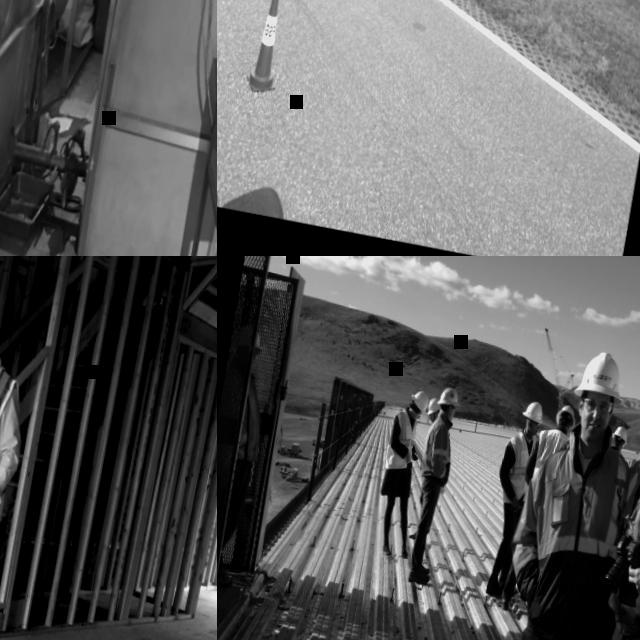helmet: (570, 345, 632, 405), (232, 319, 266, 354), (520, 398, 545, 425), (408, 386, 432, 414), (436, 384, 462, 409), (554, 400, 578, 426), (610, 424, 630, 446), (426, 393, 442, 418)
no_mask: (576, 411, 606, 442), (526, 424, 537, 436), (410, 412, 418, 420), (428, 413, 435, 422), (448, 408, 454, 418)
person: (461, 335, 640, 640), (557, 338, 640, 640), (217, 317, 285, 592), (494, 397, 580, 612), (0, 292, 47, 640), (477, 394, 548, 600), (401, 382, 465, 583), (368, 383, 434, 558), (404, 396, 442, 540), (609, 422, 632, 452)
safety_cone: (242, 0, 291, 94)
vehicle: (217, 34, 305, 217)
vest: (494, 413, 639, 640), (598, 410, 640, 631), (217, 363, 275, 467), (0, 354, 29, 529), (416, 408, 458, 488), (498, 427, 538, 504), (526, 424, 570, 479), (384, 408, 419, 472)
